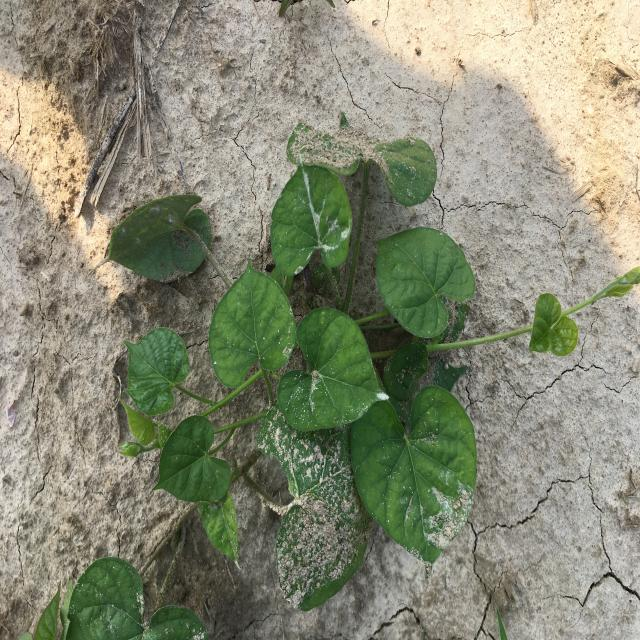MorningGlory: (21, 109, 640, 638)
